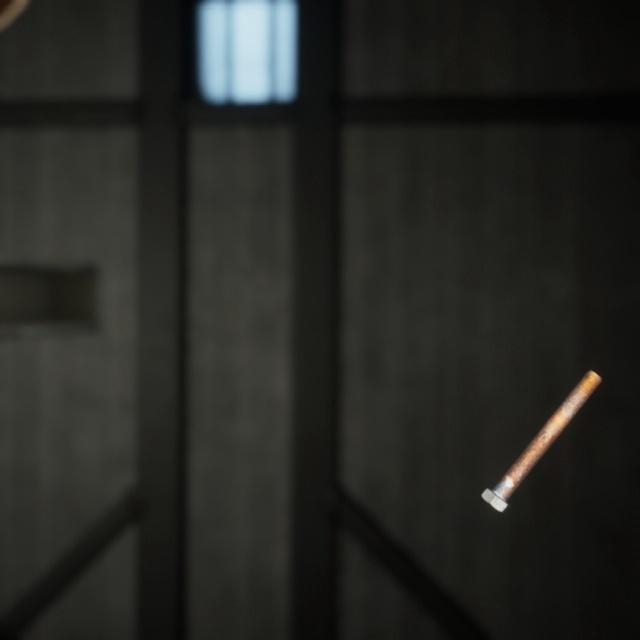bolt: (476, 345, 606, 497)
